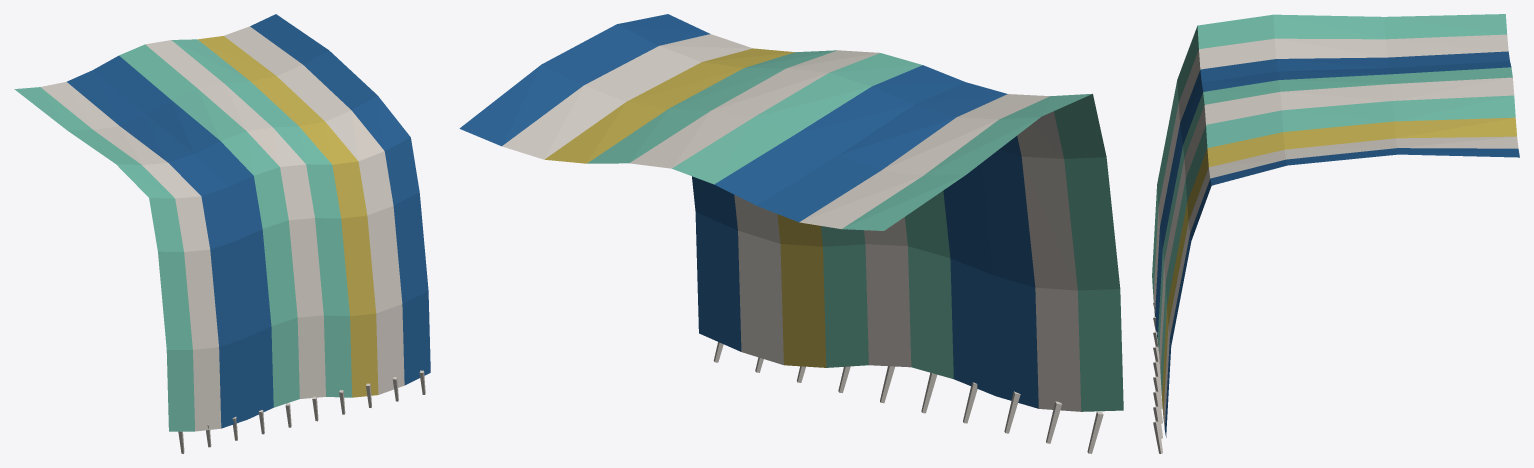
Rendered from BeachTowel.obj.
3 views of the same model, side by side, from view 1: azimuth 30°, elevation 25°; view 2: azimuth 150°, elevation 25°; view 3: azimuth 270°, elevation 25° (orthographic). The views are drawn at different scales.
Visible parts, largest first — view 1: BeachTowel; view 2: BeachTowel; view 3: BeachTowel.
Boxes of the visible parts, box(x1,y1,x2,y2) form: BeachTowel: box(14, 14, 430, 453); BeachTowel: box(459, 14, 1123, 453); BeachTowel: box(1152, 14, 1519, 453).
Size of the model in its own units: 0.7 by 0.6691 by 0.728.
Materials: 1 (1 with a texture image).
